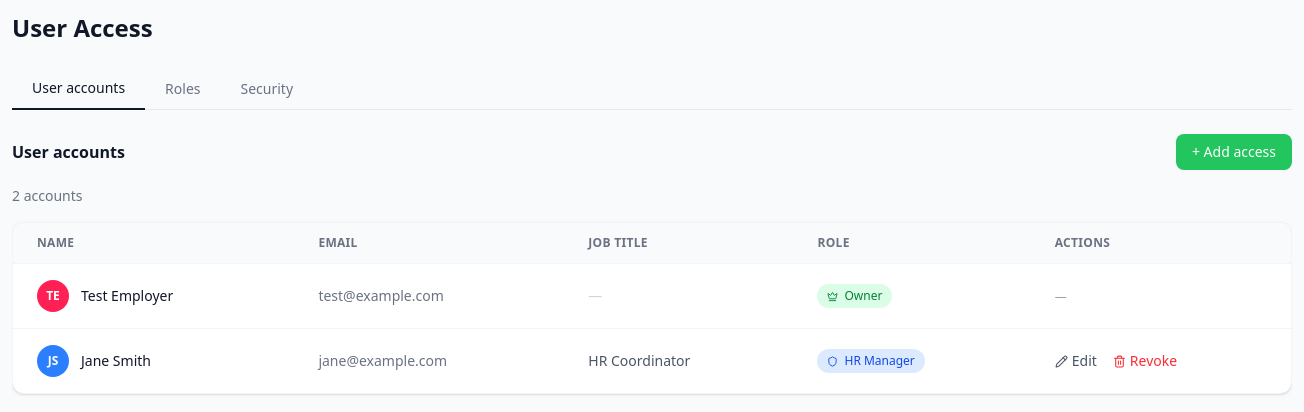
Test: UserAccess page › clicking "Roles" tab switches content
Click the button "Roles" at (183, 89), box [145,69,220,109]
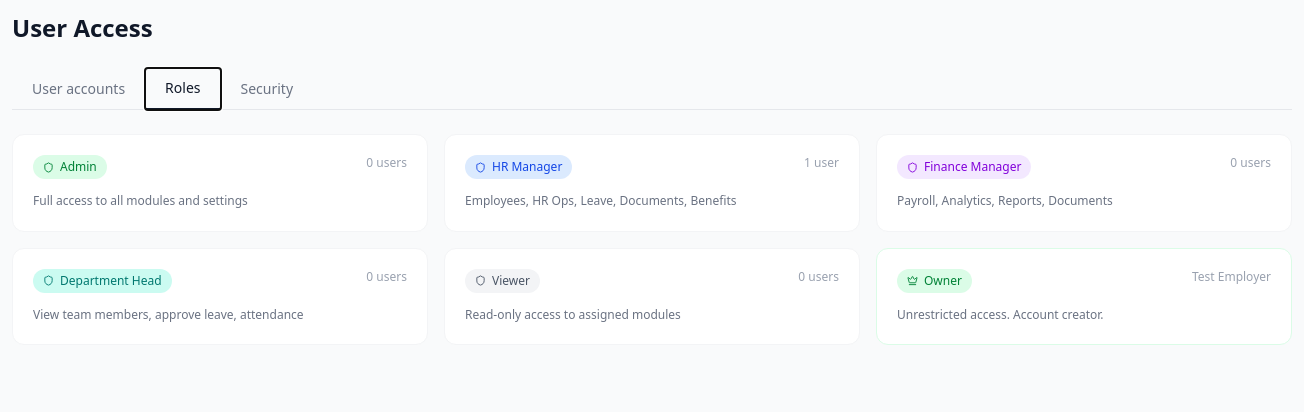
Now the text "Admin" is shown, box [33,155,107,179]
Now the text "Full access to all modules and settings" is shown, box [33,192,248,209]
